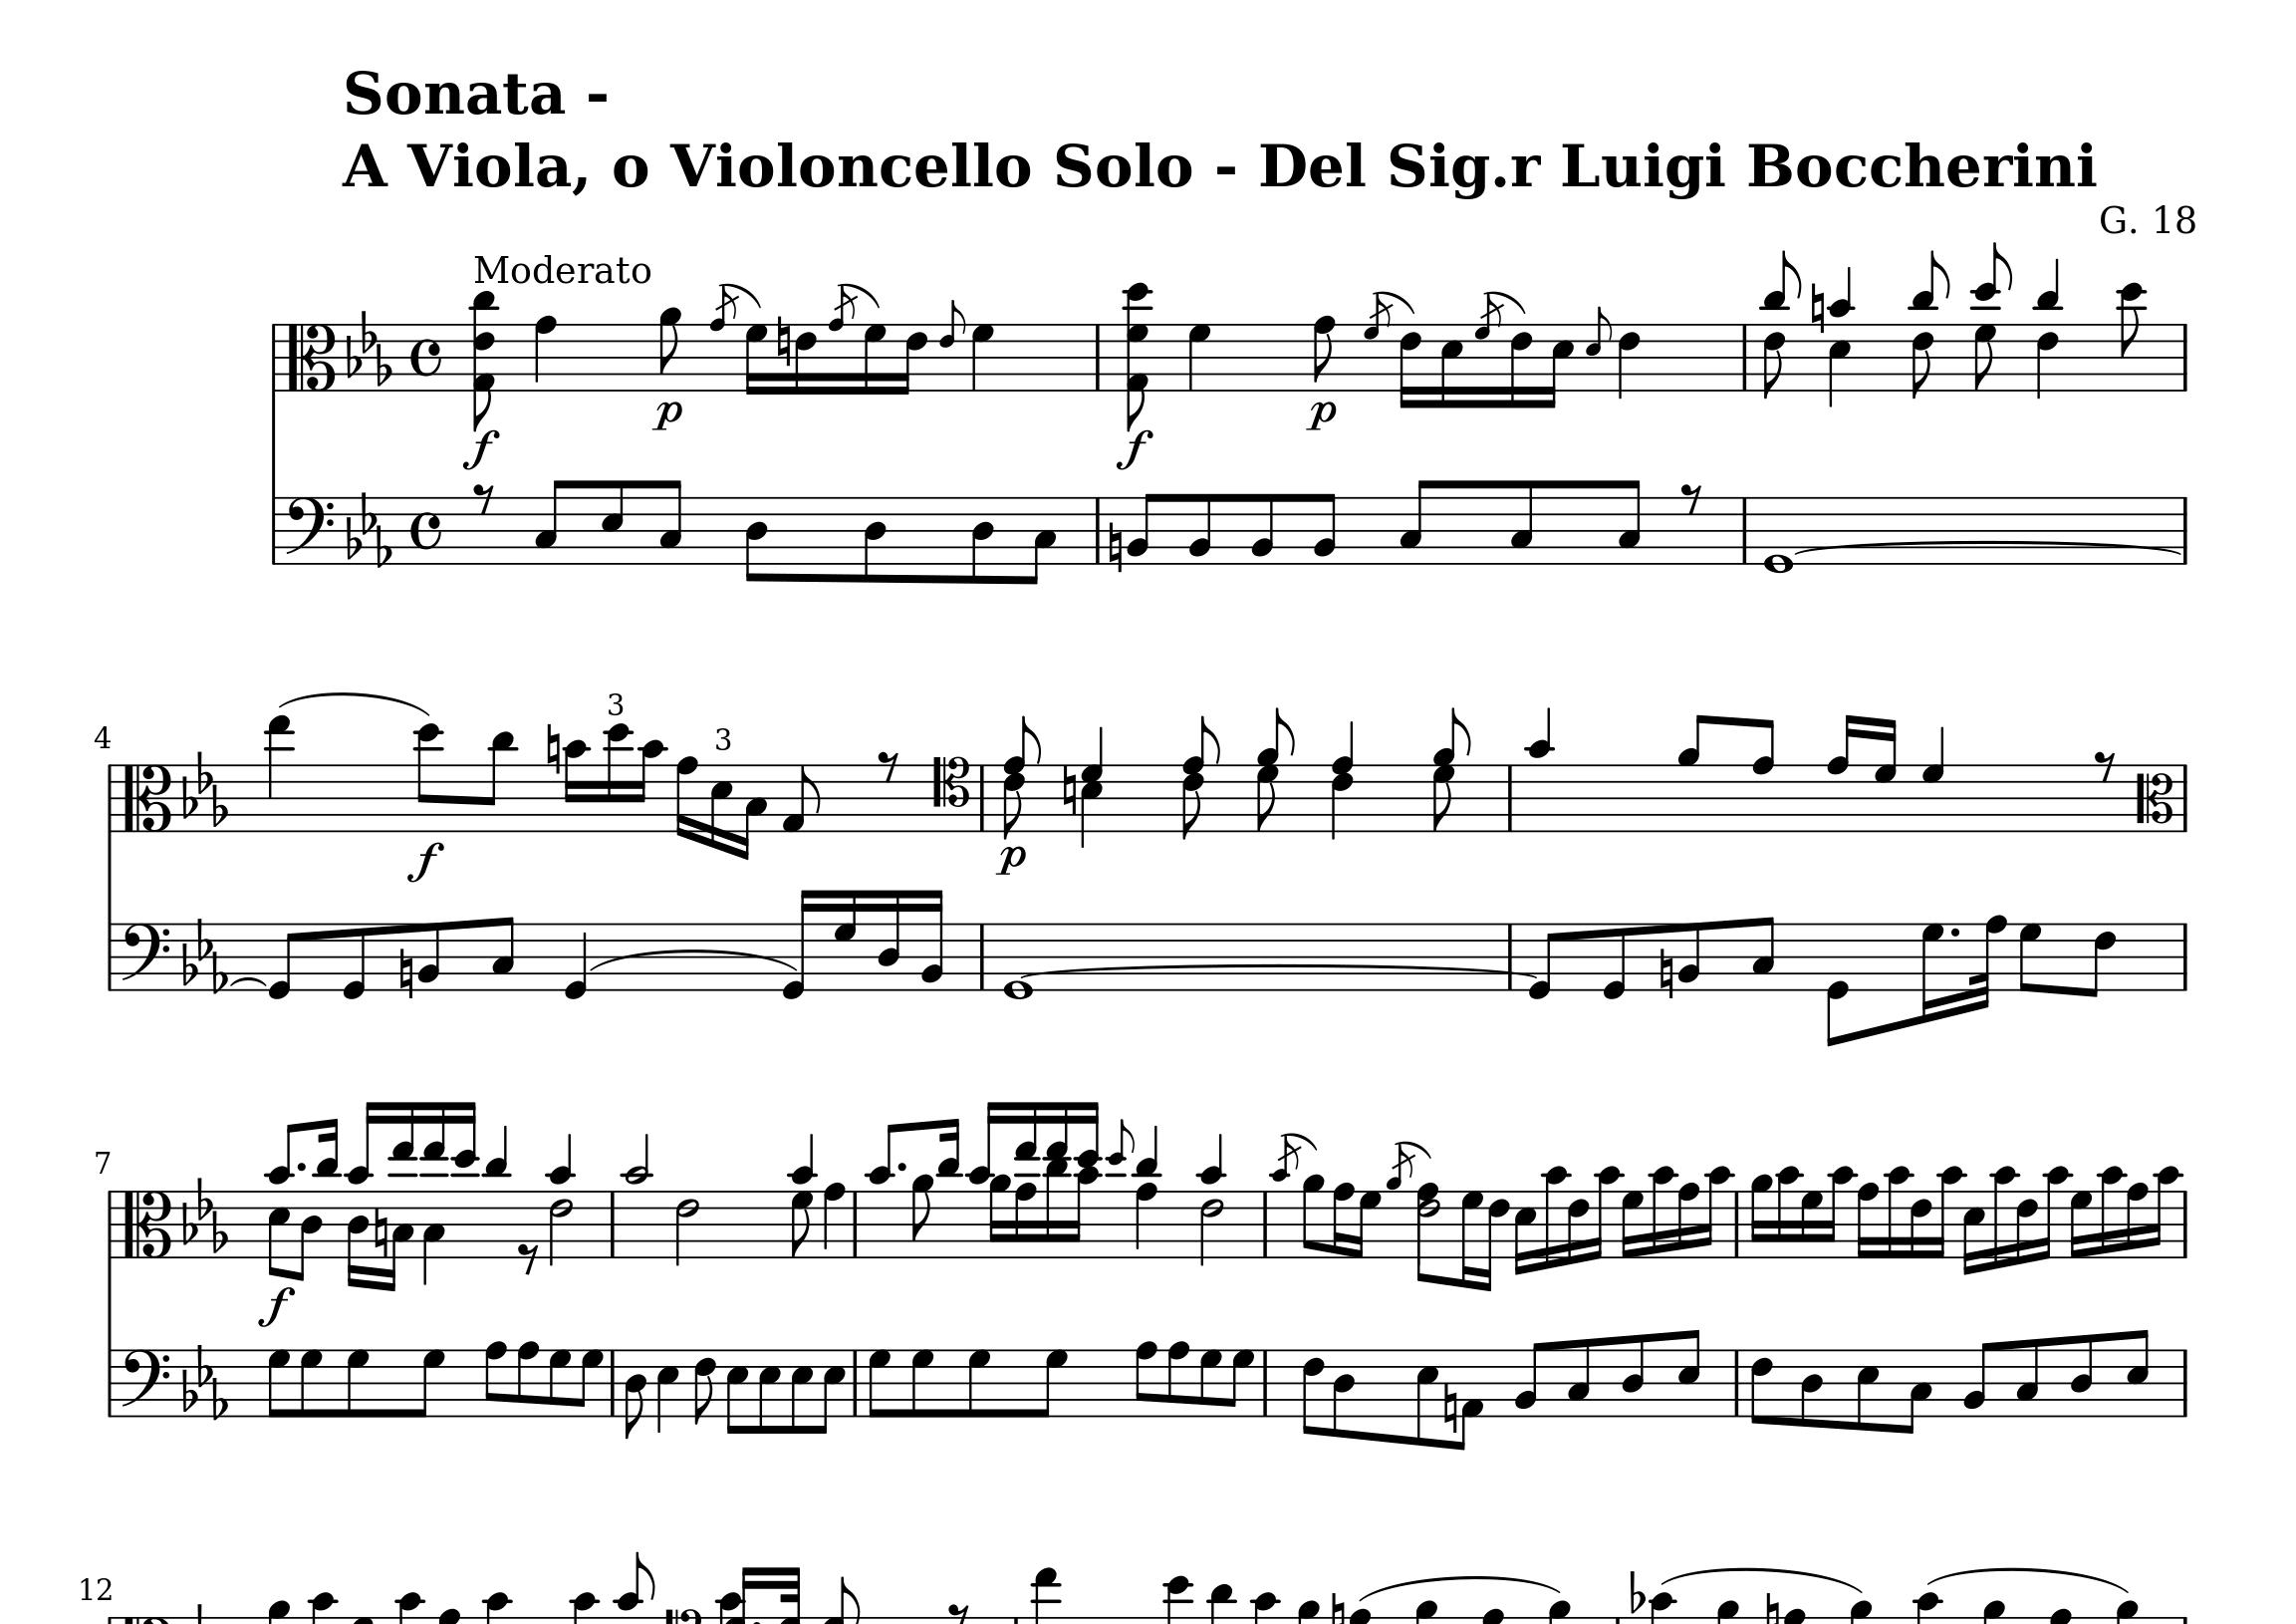1: (79, 1575, 93, 1601)
16_0: (782, 886, 815, 1002)
16_10: (964, 1104, 994, 1260), (451, 1098, 480, 1258), (936, 1113, 963, 1257), (1702, 1164, 1736, 1260), (2150, 1164, 2184, 1260), (1592, 1164, 1623, 1262), (1934, 1165, 1966, 1262), (636, 738, 668, 833), (2040, 1165, 2071, 1260), (1542, 1165, 1570, 1269), (1990, 1165, 2018, 1269), (1825, 1164, 1855, 1260), (1650, 1164, 1678, 1260), (2097, 1164, 2126, 1260), (562, 738, 590, 833), (1774, 1165, 1802, 1260), (1885, 1165, 1913, 1258)
16_10_12: (1068, 1100, 1101, 1262)
16_11: (314, 1116, 339, 1255)
16_11_13: (1042, 1100, 1072, 1260)
16_12: (604, 721, 634, 833)
16_2: (919, 888, 945, 993)
16_3: (738, 763, 768, 859)
16_3_13: (385, 1100, 415, 1292)
16_4: (875, 888, 903, 993)
16_4_10: (346, 1098, 378, 1288)
16_5: (1544, 322, 1576, 410), (1439, 322, 1465, 410), (1513, 1188, 1537, 1276), (710, 763, 733, 851), (1962, 1188, 1985, 1276)
16_6: (1481, 1188, 1509, 1292), (898, 322, 928, 397), (1398, 322, 1423, 411), (1509, 322, 1534, 410), (794, 322, 819, 395), (2015, 1188, 2038, 1264), (1567, 1190, 1588, 1262), (1910, 1190, 1931, 1258)
16_7: (833, 886, 859, 993), (1920, 919, 1945, 1023), (1460, 1186, 1483, 1290), (861, 322, 887, 397), (745, 322, 769, 397), (1354, 1190, 1381, 1258), (1621, 1188, 1644, 1260), (1801, 1188, 1823, 1260), (2069, 1188, 2092, 1260)
16_8: (675, 754, 699, 840), (1676, 1181, 1700, 1260), (1855, 1181, 1880, 1260), (2124, 1181, 2148, 1260), (1332, 1181, 1354, 1258)
16_9: (1750, 1172, 1774, 1260)
1_0: (1001, 919, 1035, 1004), (1764, 492, 1795, 575)
2: (93, 1575, 112, 1603)
2_10: (622, 1130, 652, 1260)
2_6: (548, 1188, 574, 1265), (1198, 1188, 1224, 1265), (675, 1188, 699, 1265)
3: (606, 691, 625, 717), (715, 726, 731, 750)
32_8: (1971, 912, 2006, 1011)
4: (93, 724, 112, 750)
4_0: (562, 919, 590, 1000)
4_10: (1527, 705, 1553, 833)
4_11: (483, 1118, 509, 1257)
4_13: (265, 714, 293, 835)
4_3: (423, 1186, 446, 1287)
4_5: (657, 1346, 680, 1432)
4_5_10: (1827, 260, 1855, 410)
4_5_7: (1079, 726, 1107, 849)
4_6: (1616, 322, 1641, 401)
4_6_11: (2036, 258, 2062, 401)
4_6_8: (1328, 721, 1356, 844)
4_7: (1920, 726, 1945, 831), (1188, 322, 1212, 392), (971, 322, 994, 392)
4_8: (532, 315, 559, 392), (1133, 1179, 1158, 1260), (822, 1181, 847, 1258)
7: (95, 1148, 112, 1174)
8: (2175, 202, 2198, 236)
8_0: (1823, 919, 1848, 1046), (265, 921, 300, 1000), (1527, 921, 1560, 1002), (339, 921, 367, 1002), (1600, 921, 1628, 1002)
8_1: (1456, 1346, 1484, 1452), (782, 763, 822, 833)
8_10: (864, 1120, 896, 1260)
8_11: (481, 728, 518, 833)
8_12: (415, 721, 444, 833), (2119, 281, 2145, 392)
8_2: (1513, 1339, 1544, 1418), (1962, 1339, 1994, 1418), (1126, 490, 1158, 564), (1186, 490, 1212, 566), (1249, 490, 1275, 566), (1312, 490, 1339, 566), (416, 919, 441, 993), (1676, 919, 1700, 993)
8_3: (1899, 1346, 1934, 1436), (1398, 478, 1433, 566), (1024, 494, 1058, 585), (534, 478, 567, 566), (1507, 478, 1534, 566), (1565, 1336, 1592, 1418), (659, 478, 683, 566), (1616, 478, 1641, 566), (490, 914, 516, 993), (1750, 914, 1776, 993), (2015, 1338, 2040, 1418)
8_4: (293, 1188, 323, 1281), (861, 494, 887, 585), (743, 494, 769, 584), (1332, 1346, 1356, 1439), (1620, 1332, 1646, 1418), (970, 494, 994, 585), (624, 1346, 646, 1439), (2069, 1332, 2094, 1418), (1799, 1348, 1823, 1429)
8_5: (1414, 1346, 1439, 1448), (819, 1346, 847, 1434), (2124, 1327, 2150, 1418), (599, 478, 625, 566), (1676, 1327, 1700, 1418), (757, 1346, 782, 1434), (789, 1346, 813, 1434), (1855, 1346, 1880, 1432), (726, 1346, 748, 1434)
8_5_10: (264, 1123, 295, 1281)
8_6: (2083, 921, 2115, 998), (1748, 1346, 1774, 1425), (1302, 1346, 1325, 1436), (694, 1346, 717, 1424)
8_6_11: (1762, 246, 1802, 399), (1911, 250, 1950, 399)
8_6_8: (1182, 715, 1224, 840), (1001, 717, 1043, 840)
8_7: (1874, 717, 1897, 833), (413, 1346, 444, 1418), (1036, 1346, 1068, 1418), (576, 1346, 604, 1418), (1226, 1346, 1254, 1417), (265, 1346, 292, 1418), (966, 1346, 993, 1418), (344, 1348, 371, 1418), (2017, 921, 2041, 993), (299, 1346, 323, 1418), (910, 1346, 935, 1418), (789, 1188, 813, 1258), (1198, 1346, 1223, 1417), (868, 1346, 891, 1418), (548, 1346, 571, 1417)
8_7_12: (1973, 241, 2011, 392)
8_7_9: (1432, 707, 1474, 835), (1254, 707, 1296, 835)
8_8: (1825, 712, 1857, 833), (1750, 717, 1776, 833), (483, 1339, 508, 1418), (1166, 1339, 1191, 1418), (1133, 1339, 1158, 1417), (1312, 315, 1337, 390), (516, 1339, 539, 1418)
8_9: (1676, 712, 1706, 833), (657, 304, 683, 392), (910, 1172, 935, 1260), (1302, 1172, 1325, 1260)
8_th: (1121, 279, 1151, 431), (469, 288, 495, 432)
Acciaccature: (1265, 1135, 1300, 1264), (1474, 294, 1505, 406), (1384, 1144, 1414, 1260), (827, 286, 859, 392), (708, 286, 740, 390), (1361, 294, 1393, 392)
Appoggiature: (1105, 1118, 1135, 1258), (940, 297, 968, 392), (1586, 304, 1613, 392)
Cclef: (285, 322, 339, 392), (121, 763, 174, 833), (121, 1190, 174, 1258), (2134, 763, 2175, 831)
E_F: (344, 308, 392, 388), (179, 1341, 228, 1418), (181, 749, 228, 828), (346, 489, 392, 568), (181, 1176, 227, 1253), (183, 916, 227, 990)
Fclef: (285, 494, 337, 566), (121, 921, 174, 993), (119, 1346, 172, 1418)
Flat: (1625, 1566, 1646, 1613)
Natural: (1105, 518, 1124, 575), (1059, 765, 1079, 817), (397, 946, 415, 1002), (1440, 1381, 1458, 1432), (545, 721, 560, 777), (1658, 946, 1674, 1002), (1809, 279, 1825, 334), (775, 313, 791, 366), (372, 1206, 388, 1257), (1764, 1589, 1781, 1624), (1328, 1591, 1346, 1624)
Rests8: (2092, 747, 2119, 782), (471, 480, 495, 515), (1679, 480, 1704, 515), (516, 1239, 539, 1276), (877, 749, 899, 784), (947, 1599, 970, 1622)
Single_barline: (2175, 763, 2194, 831), (2175, 923, 2194, 990), (2177, 496, 2194, 564), (265, 496, 283, 564), (265, 323, 283, 390), (1736, 496, 1753, 562), (973, 763, 991, 830), (100, 765, 118, 831), (973, 923, 991, 990), (1256, 1190, 1274, 1257), (1256, 1350, 1274, 1417), (1736, 323, 1753, 388), (2178, 1190, 2194, 1258), (1089, 323, 1105, 390), (2177, 323, 2192, 390), (1089, 496, 1105, 562), (102, 923, 118, 990), (1502, 923, 1518, 990), (102, 1190, 118, 1257), (847, 1190, 863, 1257), (1729, 1190, 1744, 1257), (102, 1350, 118, 1417), (604, 1350, 620, 1417), (848, 1350, 864, 1417), (1729, 1350, 1744, 1417), (2178, 1350, 2194, 1417), (1502, 765, 1518, 830), (604, 1190, 620, 1255)
Slur: (1019, 961, 1535, 979), (1794, 540, 2178, 557), (1358, 1575, 1560, 1603), (1660, 1568, 1862, 1596), (1927, 1568, 2129, 1596), (587, 949, 792, 975), (283, 691, 430, 715), (840, 281, 882, 308), (720, 281, 762, 308), (1372, 288, 1416, 313), (1484, 288, 1527, 313), (1393, 1139, 1435, 1158), (1281, 1130, 1319, 1149), (230, 977, 265, 988)
Tensor_Cclef: (931, 752, 971, 833)
TimeSig: (408, 322, 443, 394), (408, 496, 443, 564), (409, 496, 443, 568), (409, 322, 443, 392)
dot: (293, 1158, 307, 1174), (894, 1158, 908, 1174), (1948, 923, 1960, 940)
f: (404, 840, 446, 882), (462, 429, 502, 471), (1116, 429, 1156, 471), (256, 1285, 295, 1327)
p: (1303, 399, 1339, 434), (650, 399, 685, 432), (994, 844, 1028, 877)
